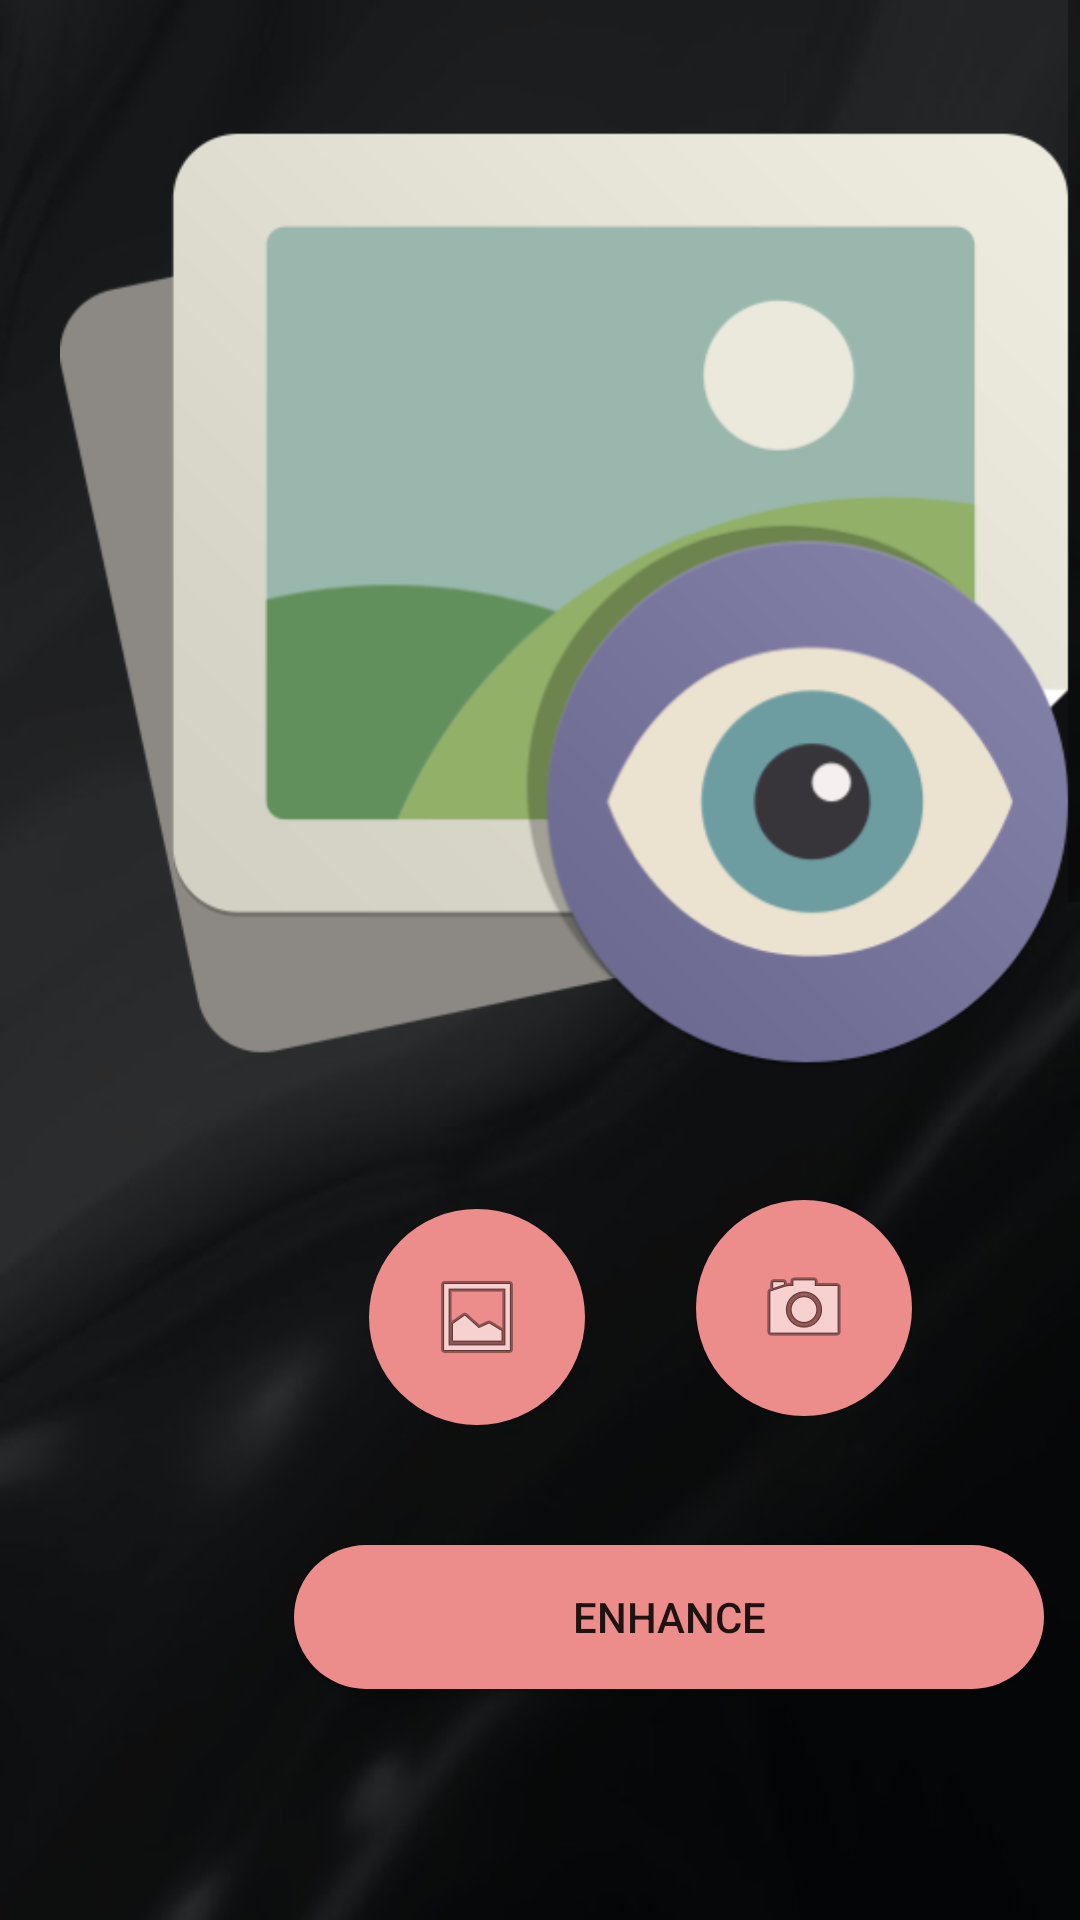

Locate icon controls on the screen. Image size 1080w x 1920h, boxes as (x1, y1, x2, y2).
camera: (696, 1200, 912, 1416)
gallery: (369, 1209, 585, 1425)
